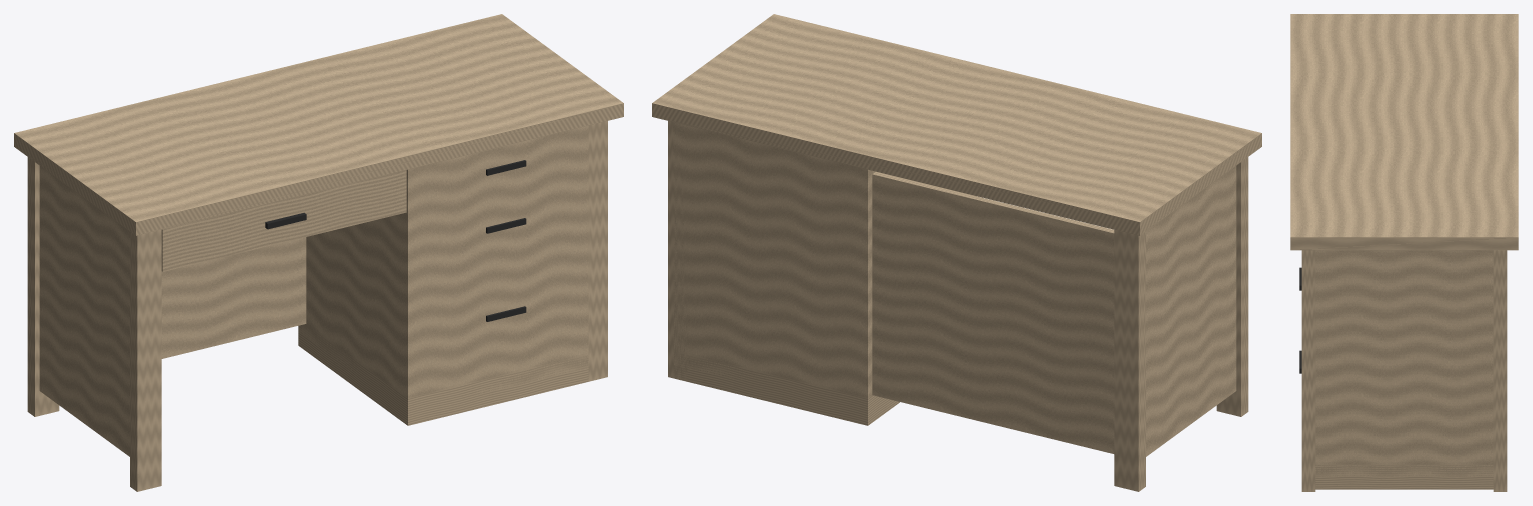
The picture shows the model from 3 angles, left to right: view 1: azimuth 30°, elevation 25°; view 2: azimuth 150°, elevation 25°; view 3: azimuth 270°, elevation 25°; orthographic projection. The views are drawn at different scales.
Visible parts, largest first — view 1: 1 tabletop, 5 right_pedestal_body, 4 left_side_panel, 11 back_panel, 9 center_drawer, 2 left_front_leg, 8 pedestal_base_trim, 6 right_front_leg, 3 left_back_leg; view 2: 1 tabletop, 11 back_panel, 5 right_pedestal_body, 4 left_side_panel, 3 left_back_leg, 8 pedestal_base_trim, 7 right_back_leg, 2 left_front_leg; view 3: 1 tabletop, 5 right_pedestal_body, 8 pedestal_base_trim, 6 right_front_leg, 7 right_back_leg.
Part boxes in pixels (x1,y1,x2,y2): 1 tabletop: (14,14,623,235); 5 right_pedestal_body: (298,125,588,398); 4 left_side_panel: (39,166,129,456); 11 back_panel: (161,237,306,358); 9 center_drawer: (161,170,406,271); 2 left_front_leg: (130,230,161,491); 8 pedestal_base_trim: (298,324,588,425); 6 right_front_leg: (588,121,607,381); 3 left_back_leg: (27,157,59,416); 1 tabletop: (652,14,1261,235); 11 back_panel: (872,172,1114,453); 5 right_pedestal_body: (673,122,976,398); 4 left_side_panel: (1146,166,1236,456); 3 left_back_leg: (1114,230,1145,491); 8 pedestal_base_trim: (674,352,899,425); 7 right_back_leg: (668,121,687,380); 2 left_front_leg: (1216,157,1248,416); 1 tabletop: (1290,14,1518,250); 5 right_pedestal_body: (1315,250,1493,476); 8 pedestal_base_trim: (1315,464,1493,489); 6 right_front_leg: (1301,250,1315,491); 7 right_back_leg: (1493,250,1507,491).
Size of the model in its own units: 1.85 by 1 by 0.8.
2 materials, 1 textured.
